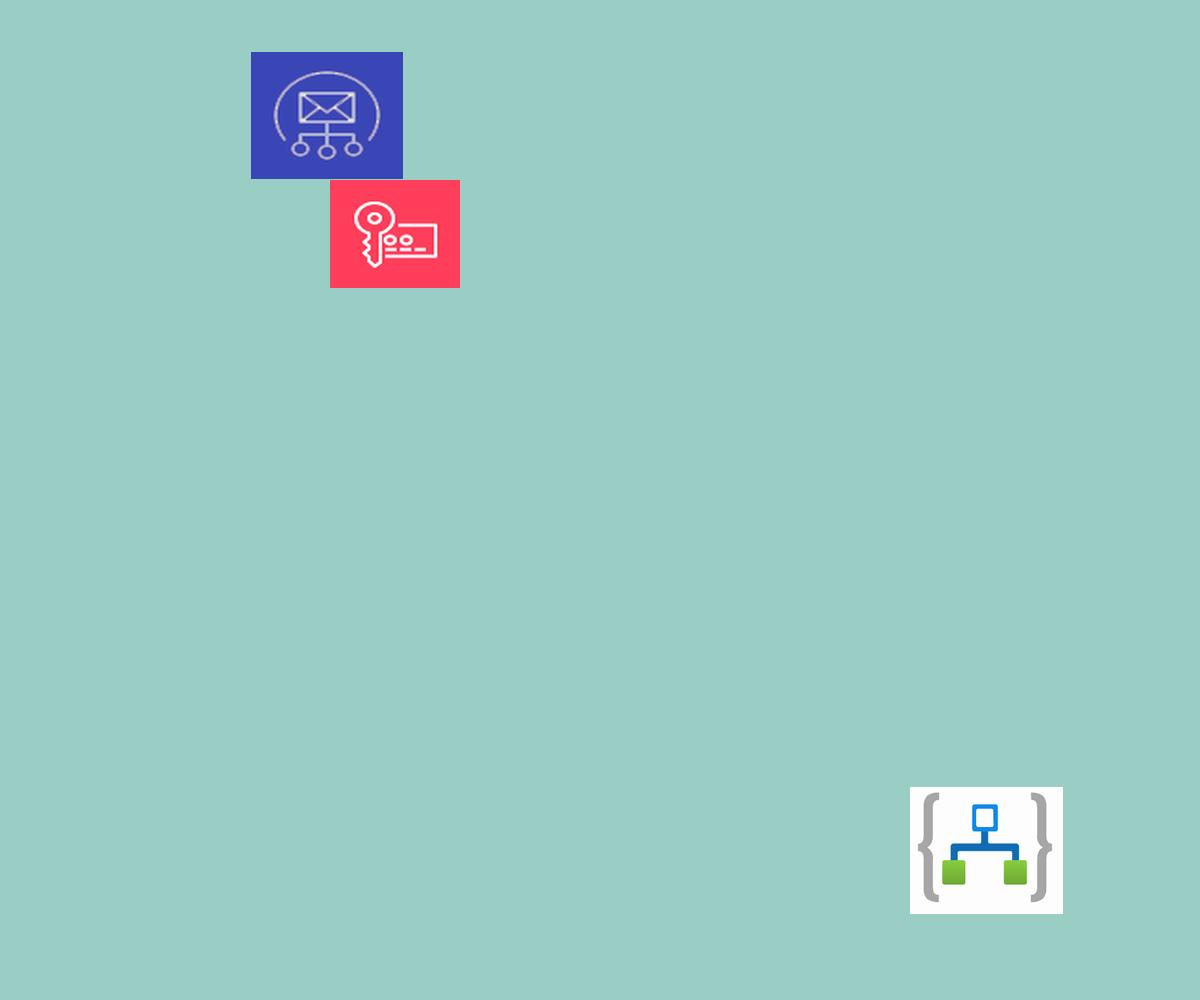AWS-Key-Management-Service: (330, 180, 460, 288)
AWS-Simple-Email-Service: (251, 52, 403, 179)
Azure_integration-204-Logic-Apps: (910, 787, 1063, 914)
